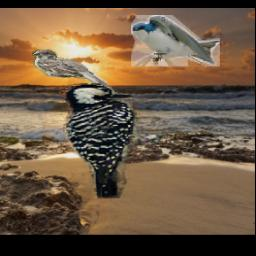Sparrow: (33, 49, 108, 86)
Swallow: (131, 15, 220, 66)
Woodpecker: (60, 80, 170, 198)
